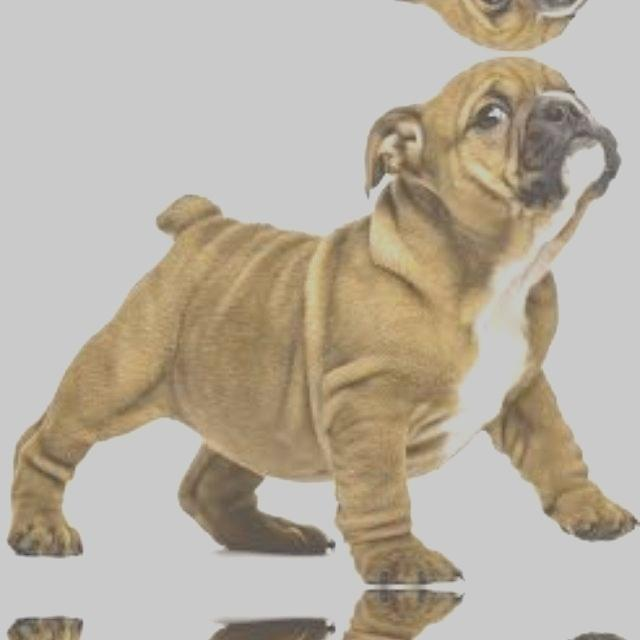dog: (6, 58, 640, 586), (6, 587, 640, 640), (6, 0, 640, 48)
